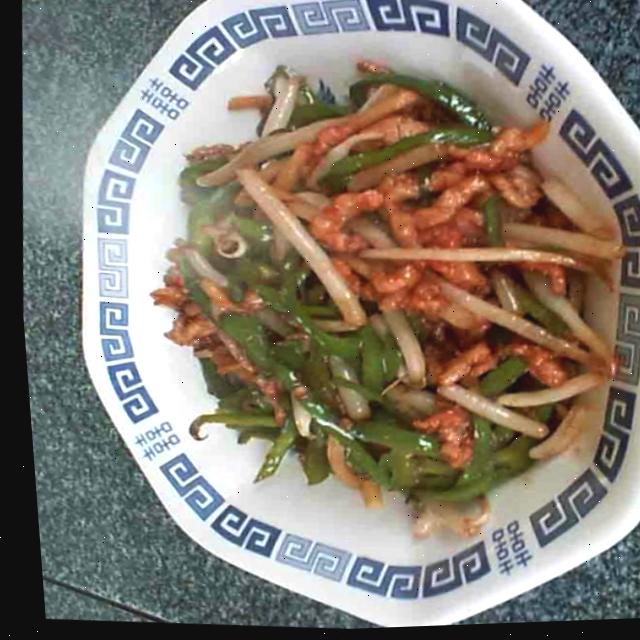牛肉菜式: (90, 45, 640, 563)
